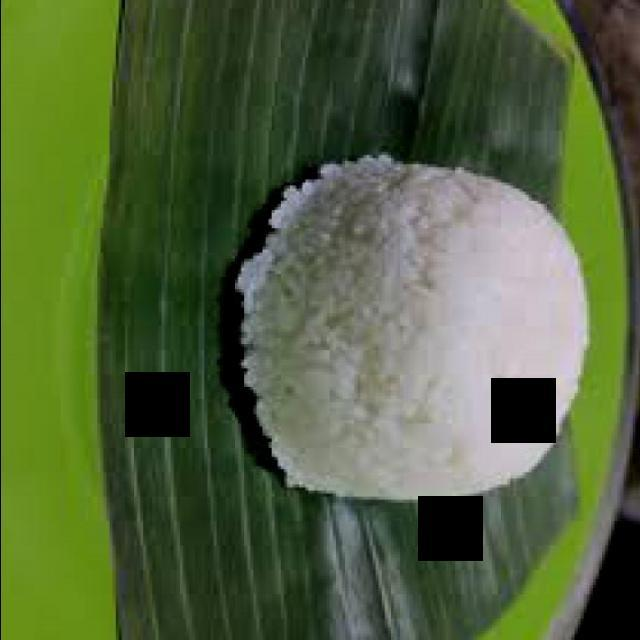rice: (229, 152, 591, 501)
